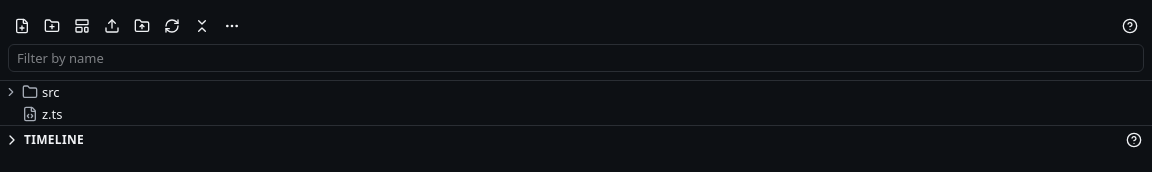
Test: the tree follows the disk — S-188, S-189 › drops the levels of a folder deleted on disk
Click the list item "src" at (32, 92), box [4, 83, 60, 101]
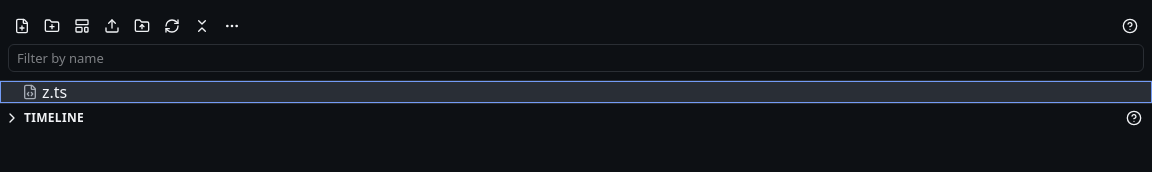
Expected: the text "src" is gone
